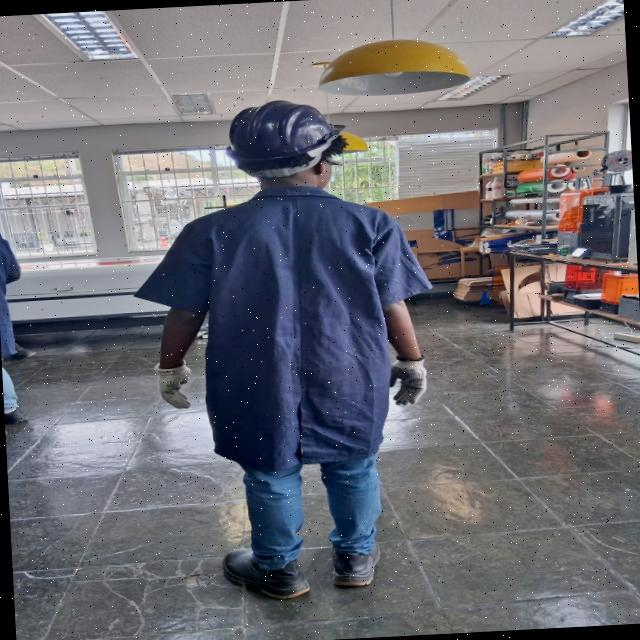BOTA: (212, 544, 324, 606), (334, 536, 388, 587)
CAPACETE: (221, 100, 357, 182)
JALECO: (122, 185, 443, 476)
LUVA: (388, 349, 435, 409), (160, 359, 207, 413)
